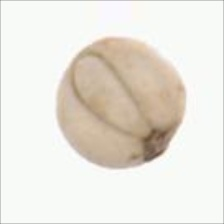L5: (69, 50, 151, 138), (139, 116, 183, 166)
L6: (53, 35, 187, 172)
